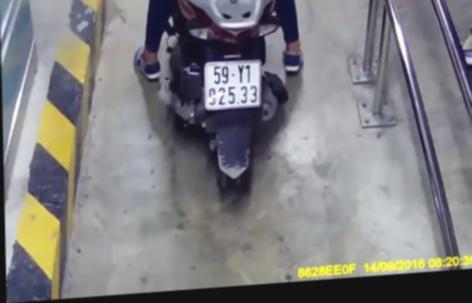License_Plate: (200, 55, 267, 114)
